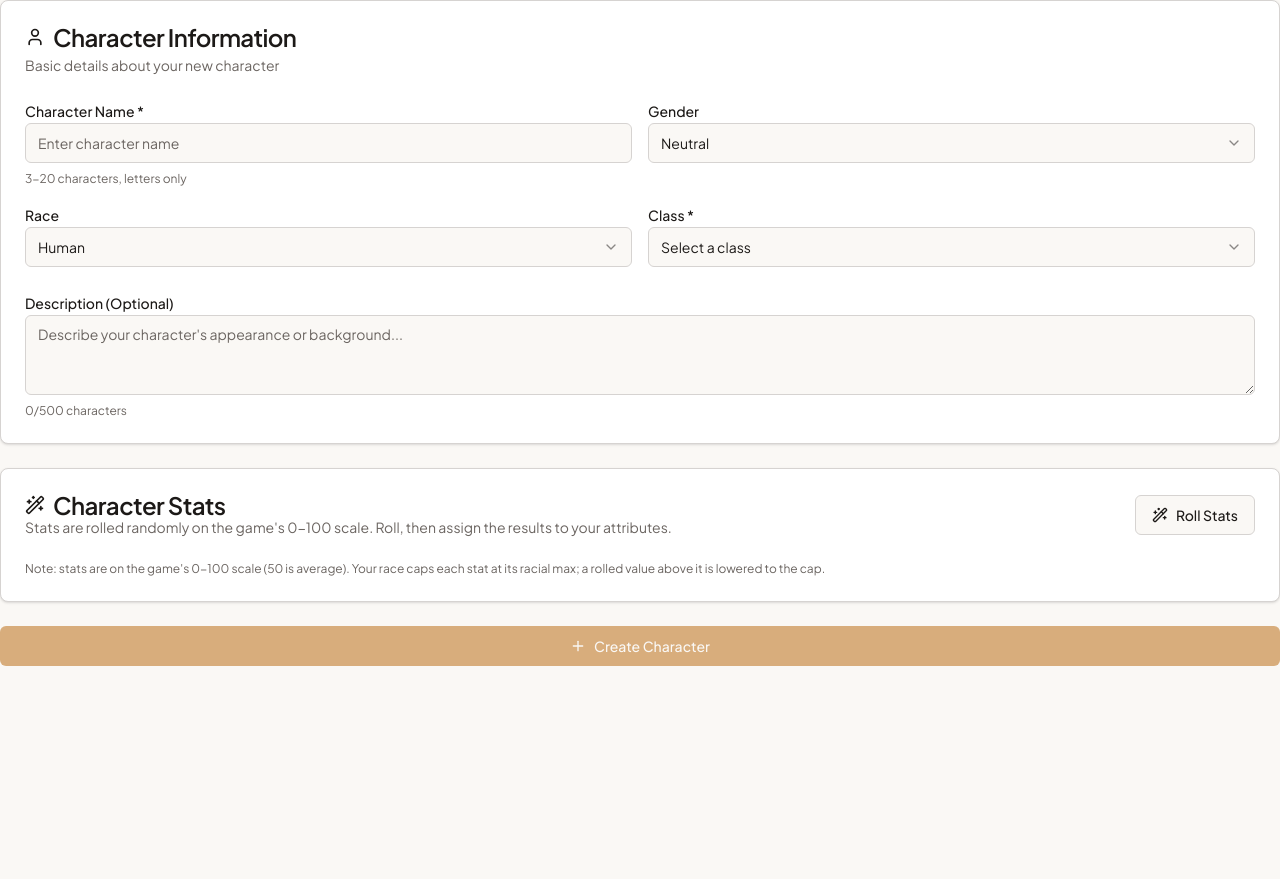
Test: CharacterCreationForm › states the 0-100 stat scale before and after rolling
expect the text with test id "stat-scale-note" shows "0-100 scale": met, box [25,561,825,576]
expect the text "use the dropdowns to swap stats" is not shown: met
Click the button "Roll Stats" at coordinates (1195, 515), box [1135,495,1255,535]
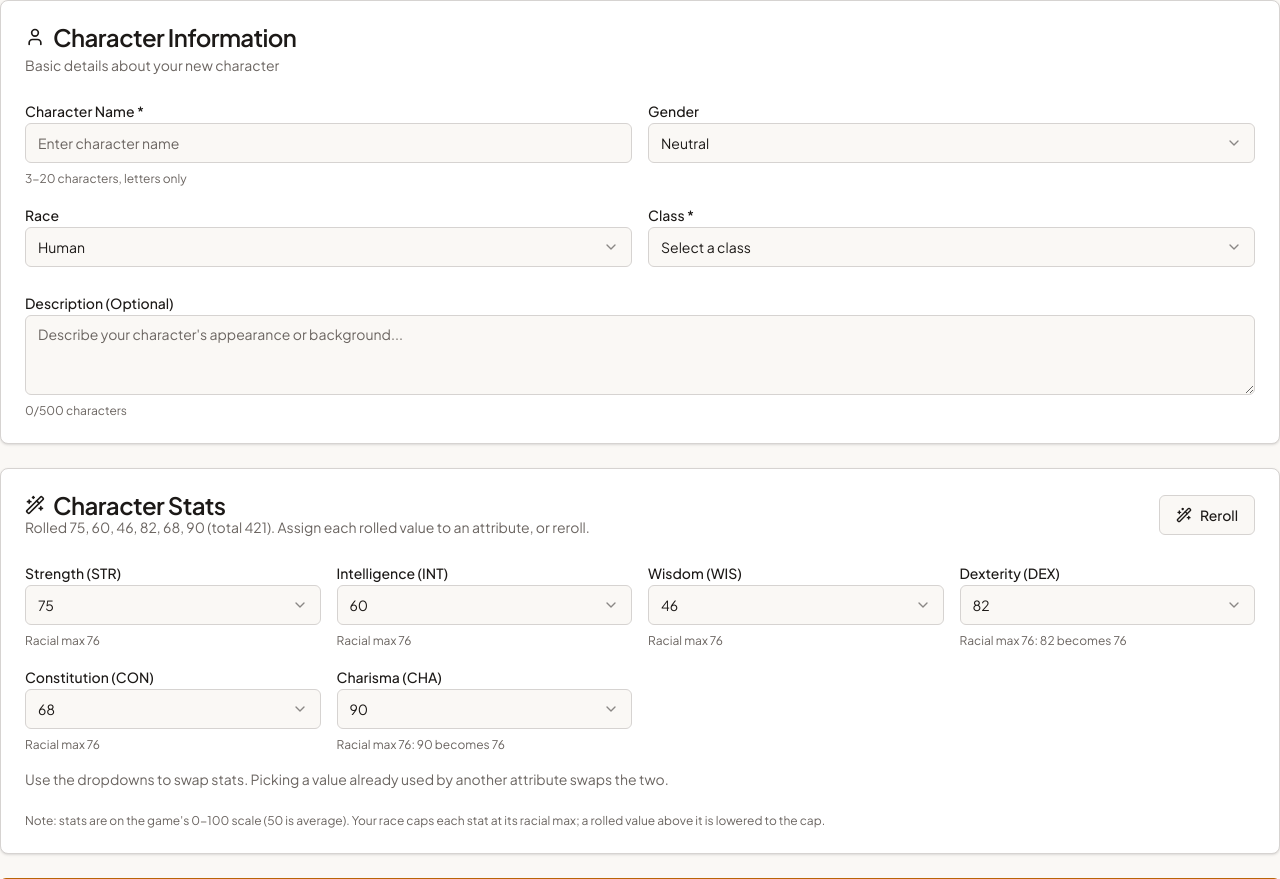
expect the text with test id "stat-scale-note" is shown: met, box [25,813,825,828]
expect the text "Use the dropdowns to swap stats" is shown: met, box [25,770,669,788]
